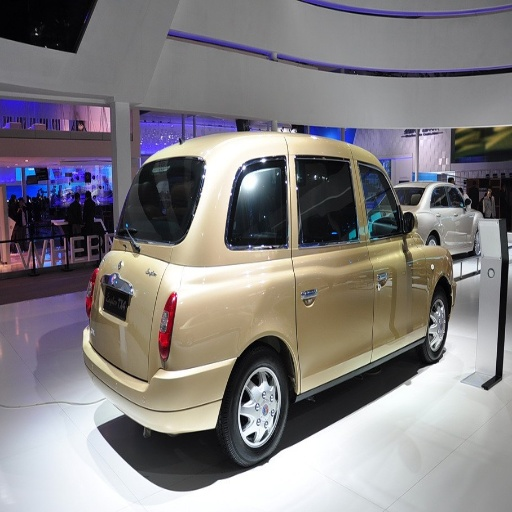back_bumper: (84, 318, 219, 434)
back_right_door: (290, 159, 374, 375), (226, 158, 280, 239)
tailgate: (106, 266, 159, 364)
trunk: (96, 252, 295, 406)
